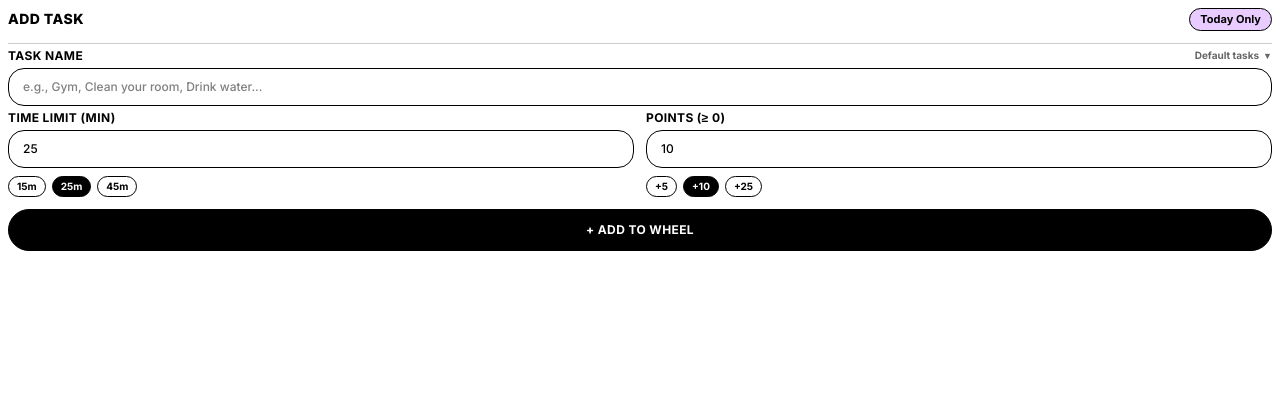
it: components/TaskForm (spec) › disables dropdown option and blocks submission if task was already assigned and attempted today
This screenshot has width=1280, height=398.
Focus the field labelled "Task Name" at (640, 86), box [8,68,1272,106]
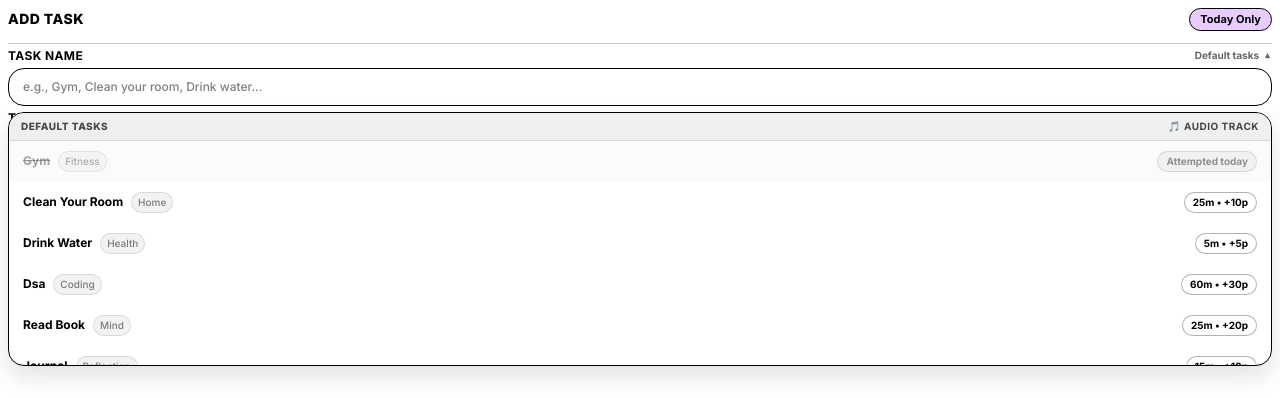
Expected: the option "gym Fitness Attempted today" is shown, [9,140,1271,182]
Typing "gym" manually and submitting should be blocked
Type "gym" into the field labelled "Task Name" at (640, 86), box [8,68,1272,106]
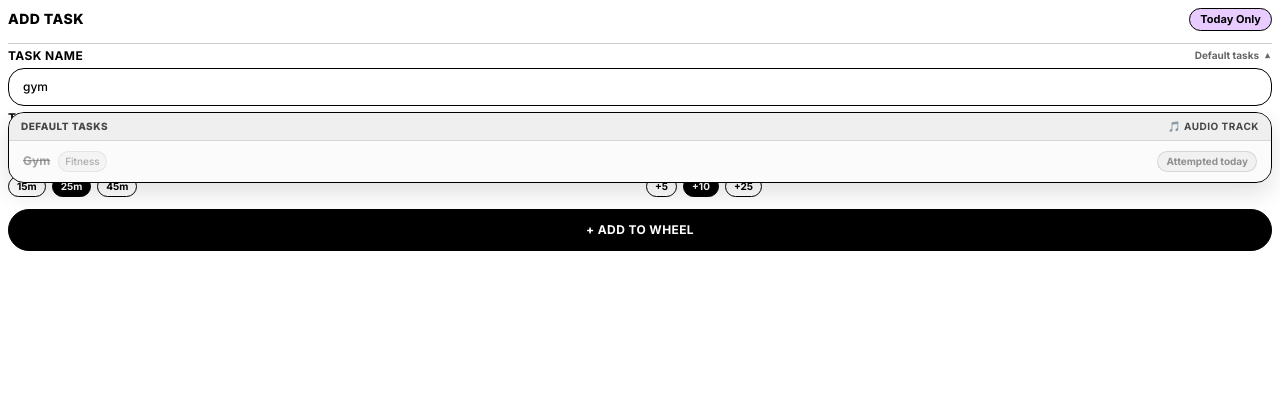
Click the button "+ Add to Wheel" at (640, 230), box [8,208,1272,250]
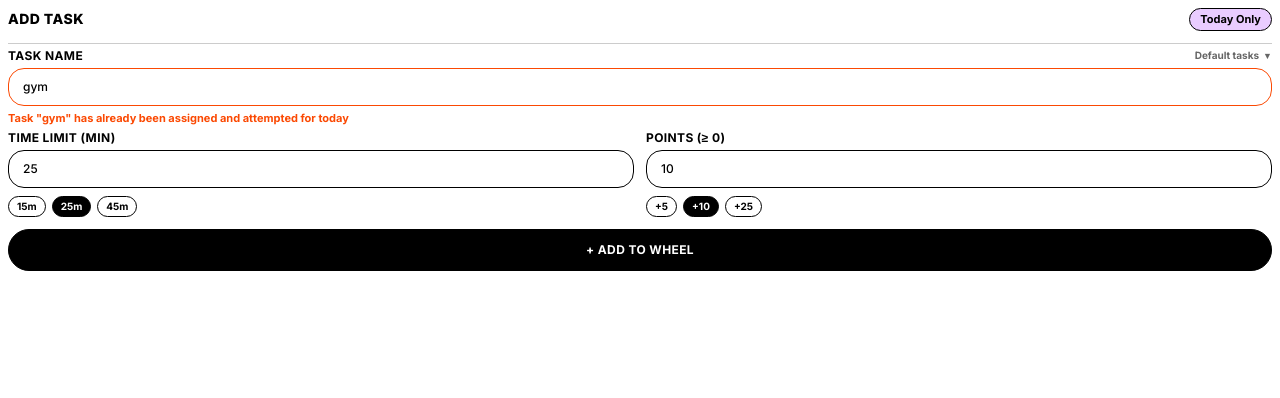
Expected: the text "Task \"gym\" has already been assigned and attempted for today" is shown, [8,110,349,124]
